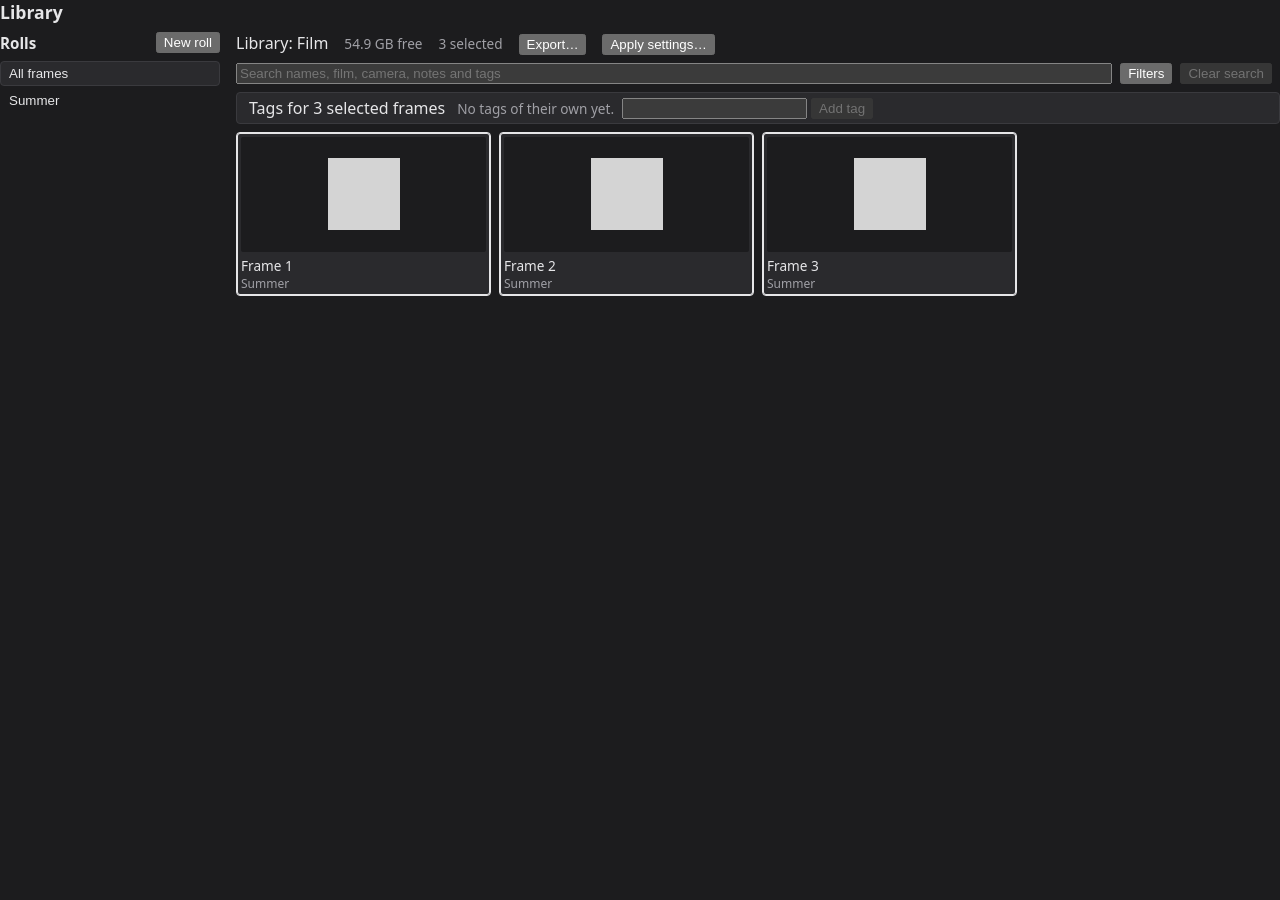
Test: ApplySettingsDialog › the choices › offers the selected frames as the source, with their numbers and roll
Click the button "Apply settings…". click: click(659, 44)
box: [602,34,715,55]
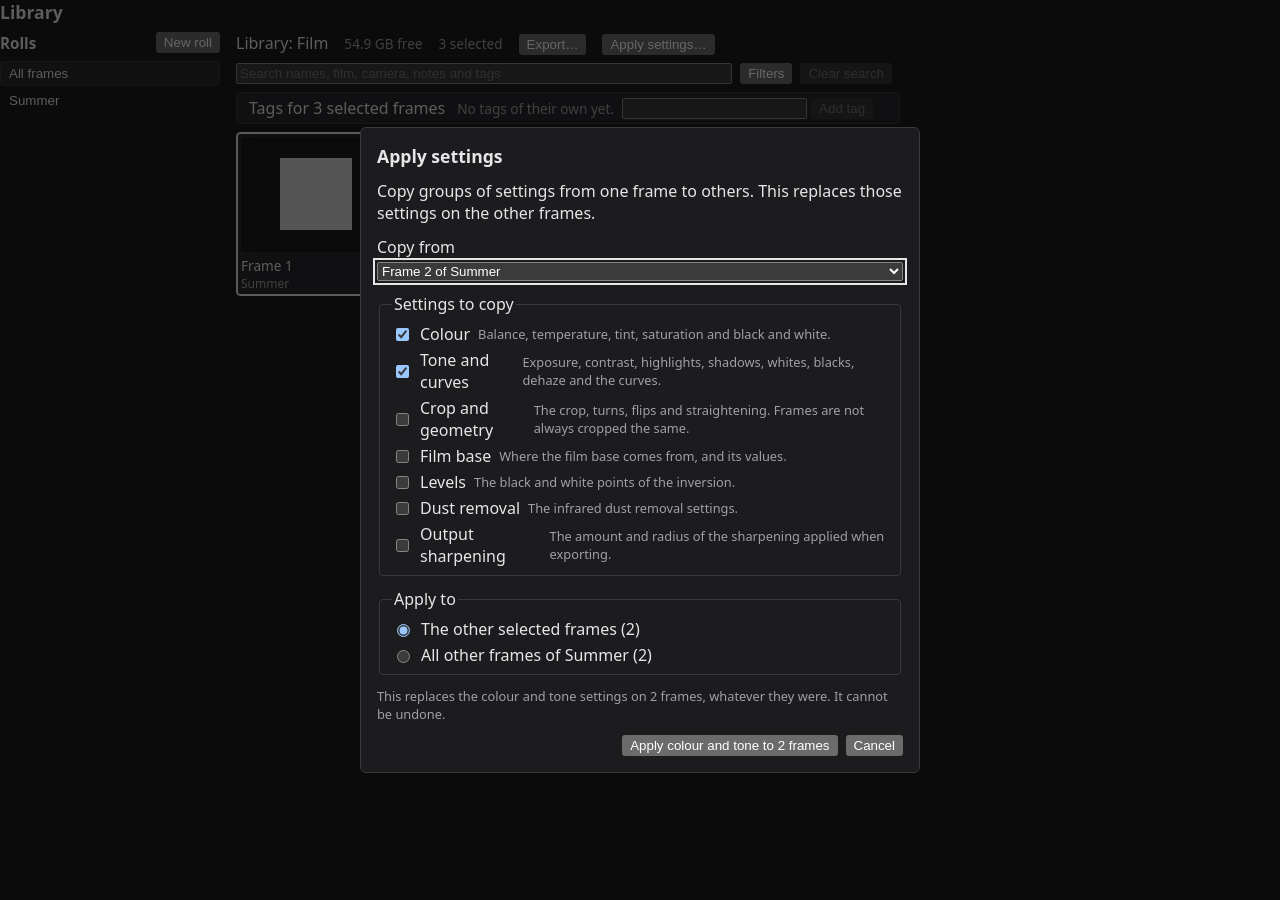
Now the dialog "Apply settings" is shown, box [360,127,920,773]
Now the radio button labelled "All other frames of Summer (2)" is shown, box [397,650,410,663]
Now the dropdown labelled "Copy from" shows "Frame 2 of Summer", box [377,262,903,281]
